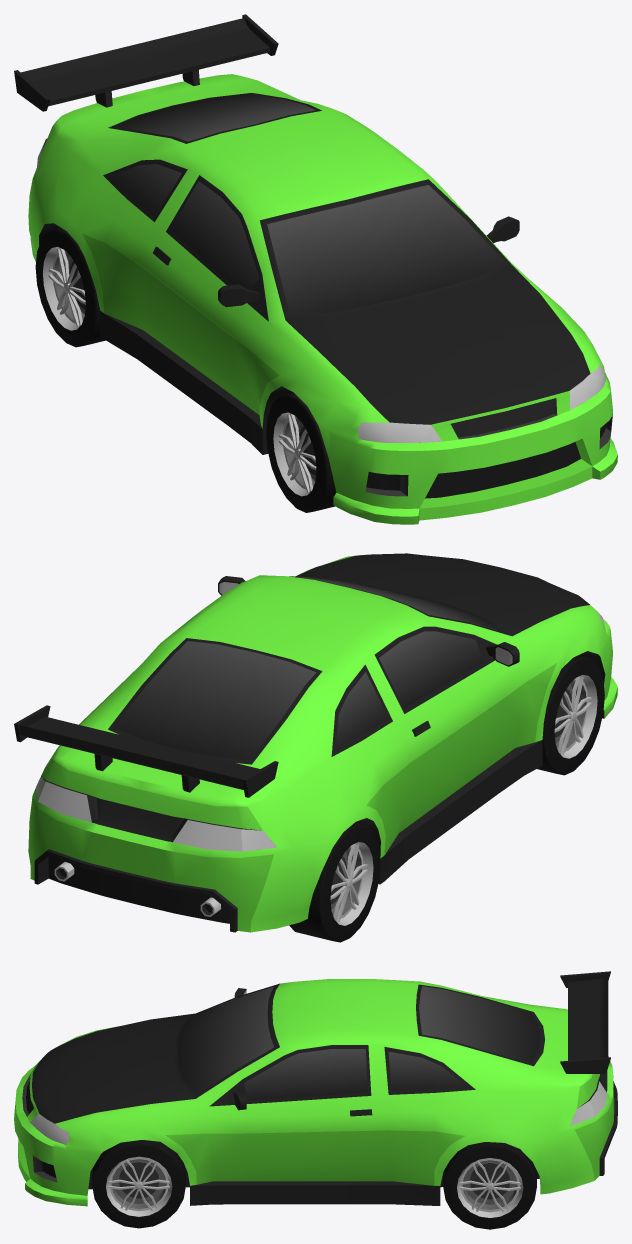
The model's file is PaoChe00_1.fbx.
The picture shows the model from 3 angles, top to bottom: view 1: azimuth 30°, elevation 25°; view 2: azimuth 150°, elevation 25°; view 3: azimuth 270°, elevation 25°; orthographic projection. The views are drawn at different scales.
Visible parts, largest first — view 1: PaoChe00_1; view 2: PaoChe00_1; view 3: PaoChe00_1.
Part boxes in pixels (x1,y1,x2,y2): PaoChe00_1: [14, 14, 617, 524]; PaoChe00_1: [14, 553, 617, 942]; PaoChe00_1: [14, 971, 617, 1229].
Size of the model in its own units: 301 by 213 by 681.
